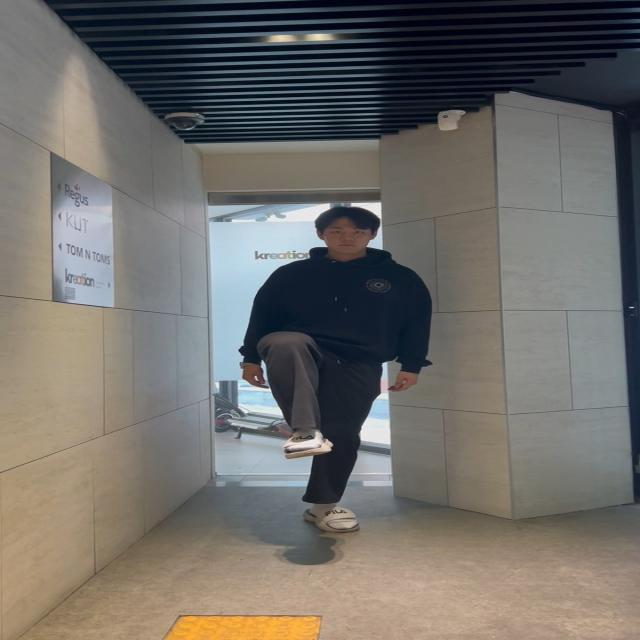knee: (245, 325, 342, 464)
